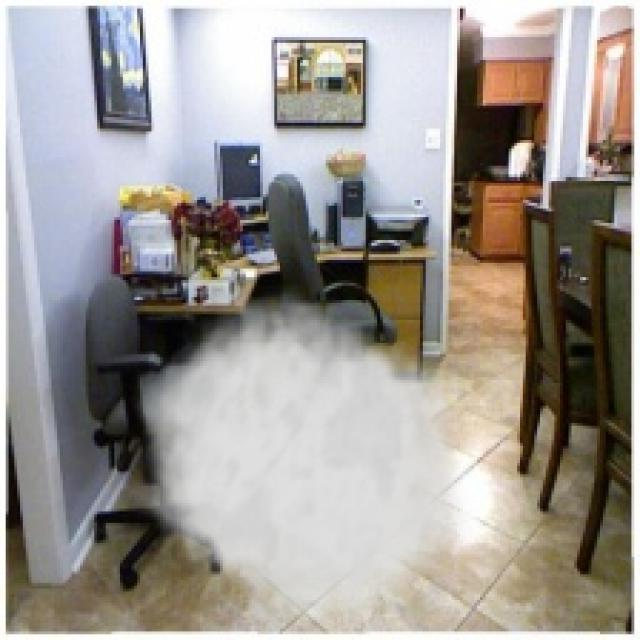Smoke: (131, 283, 480, 632)
